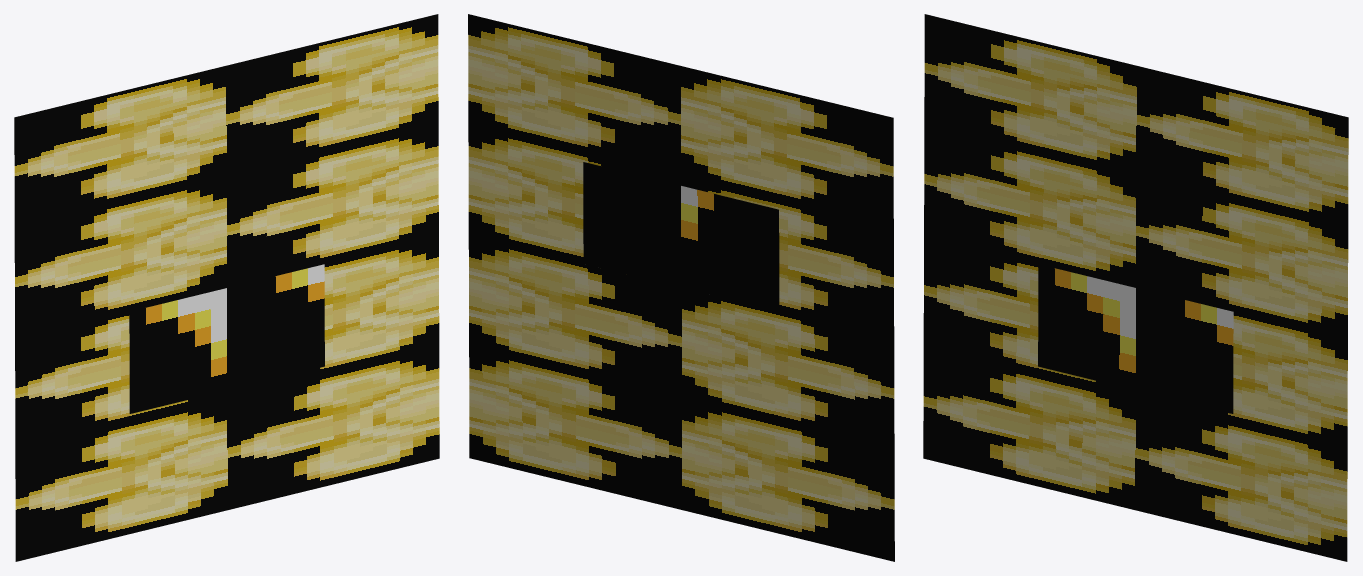
The picture shows the model from 3 angles, left to right: view 1: azimuth 30°, elevation 25°; view 2: azimuth 150°, elevation 25°; view 3: azimuth 330°, elevation 25°; orthographic projection.
Parts seen in each view (by area): view 1: ef_086; view 2: ef_086; view 3: ef_086.
Part boxes in pixels (left/top/right/bottom): ef_086: left=14, top=14, right=439, bottom=561; ef_086: left=468, top=14, right=894, bottom=561; ef_086: left=923, top=14, right=1348, bottom=561.
Bounding box in the file's own units: 0.6968 × 0.6968 × 0.00391.
2 materials, 2 textured.
